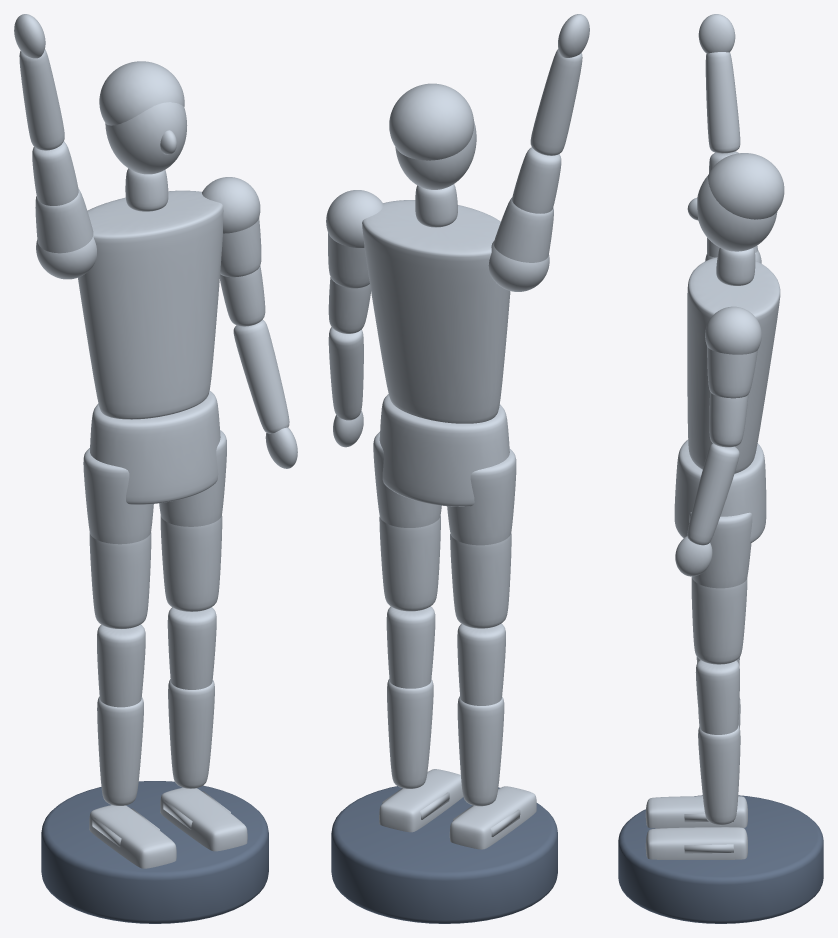
The model's file is reward-celeb-statue.glb.
3 renders of one model, left to right at view 1: azimuth 30°, elevation 25°; view 2: azimuth 150°, elevation 25°; view 3: azimuth 270°, elevation 25°, orthographic. The views are drawn at different scales.
Parts seen in each view (by area): view 1: Cone.001, block, Cone, Cone.007, Cone.014, Cone.013, Cone.009, Cone.016, Sphere, Sphere.001, Cone.008, Cone.005 (+14 smaller); view 2: Cone.001, block, Cone, Sphere.001, Cone.014, Cone.007, Cone.016, Cone.009, Cone.013, Cone.008, Cone.015, Cone.012 (+14 smaller); view 3: block, Cone.001, Cone.007, Cone, Sphere.001, Cone.009, Cone.012, Cone.005, Cone.008, Cone.006, Cube, Sphere (+8 smaller).
Boxes of the visible parts, x1,y1,x2,y2 form: Cone.001: (78,190,223,419); block: (41,781,268,923); Cone: (90,391,220,504); Cone.007: (160,515,222,611); Cone.014: (89,532,151,628); Cone.013: (83,448,153,544); Cone.009: (168,679,214,788); Cone.016: (97,696,143,805); Sphere: (105,102,187,174); Sphere.001: (99,61,184,125); Cone.008: (167,607,216,689); Cone.005: (233,319,289,433); Cone.001: (362,200,510,423); block: (331,786,557,923); Cone: (379,394,509,506); Sphere.001: (389,83,473,160); Cone.014: (450,533,511,628); Cone.007: (379,516,440,611); Cone.016: (457,696,504,806); Cone.009: (387,679,433,788); Cone.013: (447,449,516,545); Cone.008: (386,606,435,688); Cone.015: (457,623,505,705); Cone.012: (530,49,582,155); block: (618,795,823,923); Cone.001: (687,257,780,473); Cone.007: (691,577,747,664); Cone: (674,439,766,543); Sphere.001: (708,153,784,219); Cone.009: (698,725,740,825); Cone.012: (705,52,740,153); Cone.005: (687,443,739,545); Cone.008: (695,660,739,734); Cone.006: (689,512,752,588); Cube: (645,827,747,859); Sphere: (697,176,777,251).
Bounding box in the file's own units: 1.34 × 4.35 × 1.
